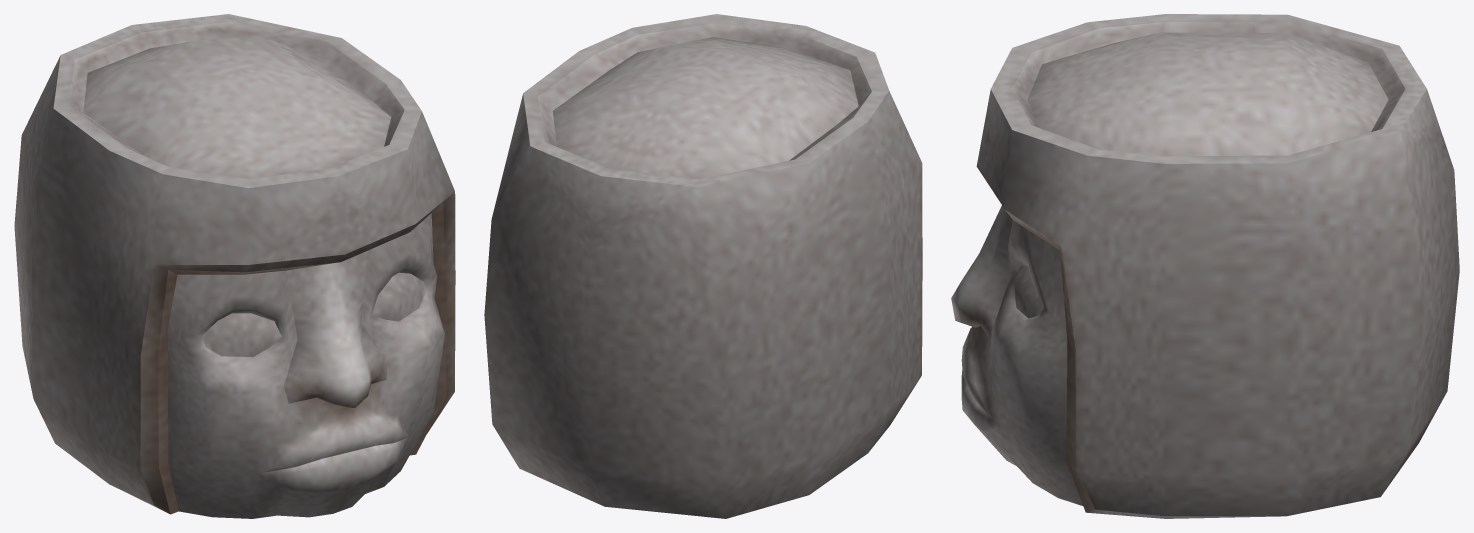
File: HugeFace.fbx
3 views of the same model, side by side, from view 1: azimuth 30°, elevation 25°; view 2: azimuth 150°, elevation 25°; view 3: azimuth 270°, elevation 25° (orthographic). The views are drawn at different scales.
Parts seen in each view (by area): view 1: HugeFace; view 2: HugeFace; view 3: HugeFace.
Boxes of the visible parts, bbox=[...] form: HugeFace: bbox=[14, 14, 455, 518]; HugeFace: bbox=[484, 14, 922, 518]; HugeFace: bbox=[951, 14, 1459, 518].
Size of the model in its own units: 1.53 by 1.64 by 1.91.
